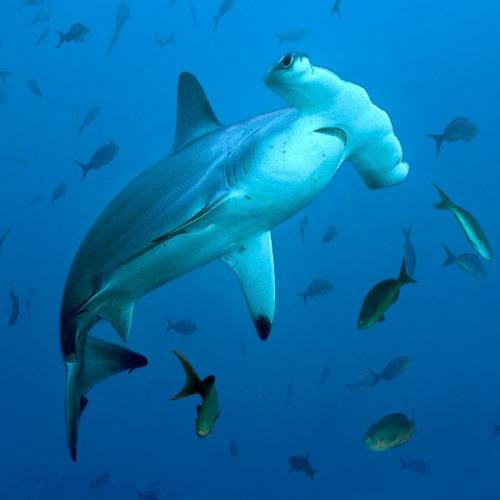shark-endangered: (57, 51, 410, 463)
